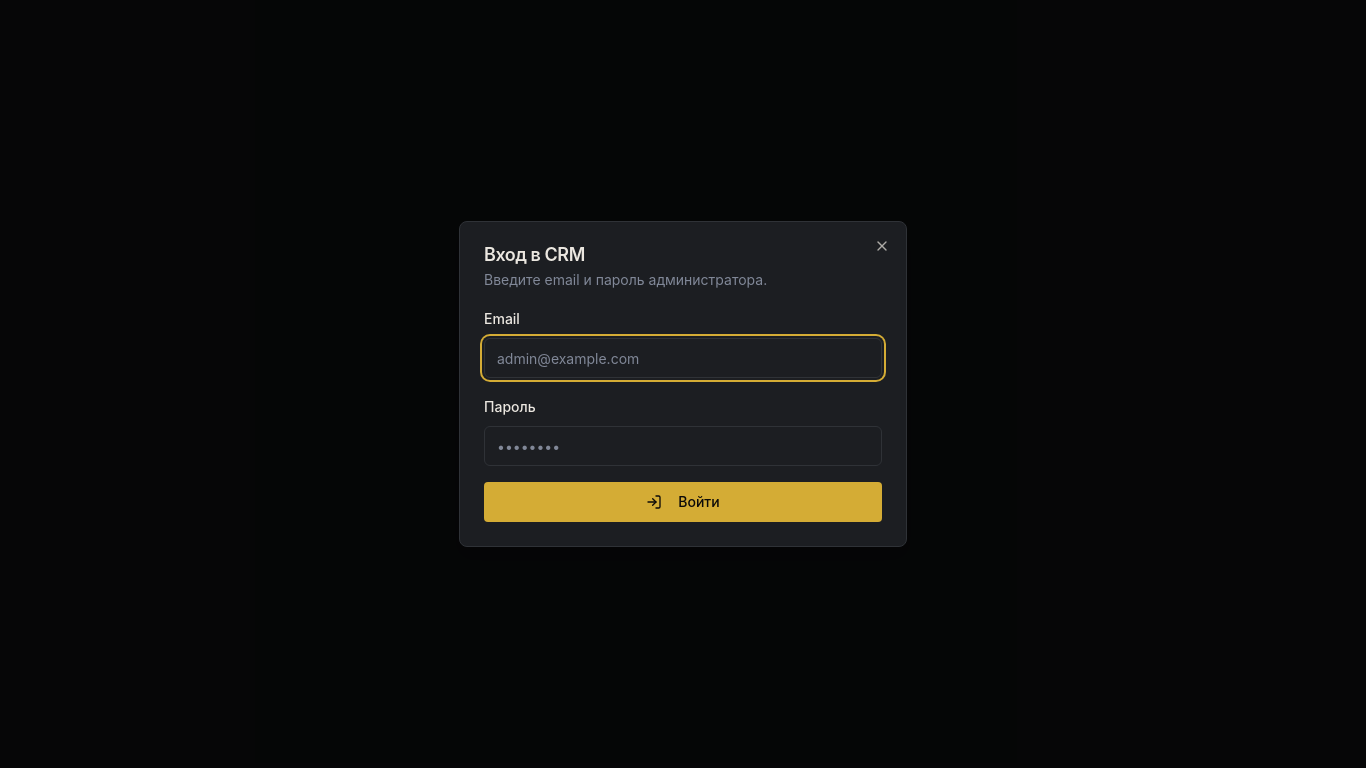
Scenario: CRM login feedback › shows a persistent error and reenables the form if the login callback rejects
Type "admin@example.test" into the field labelled "Email" at (683, 358), box [484,338,882,378]
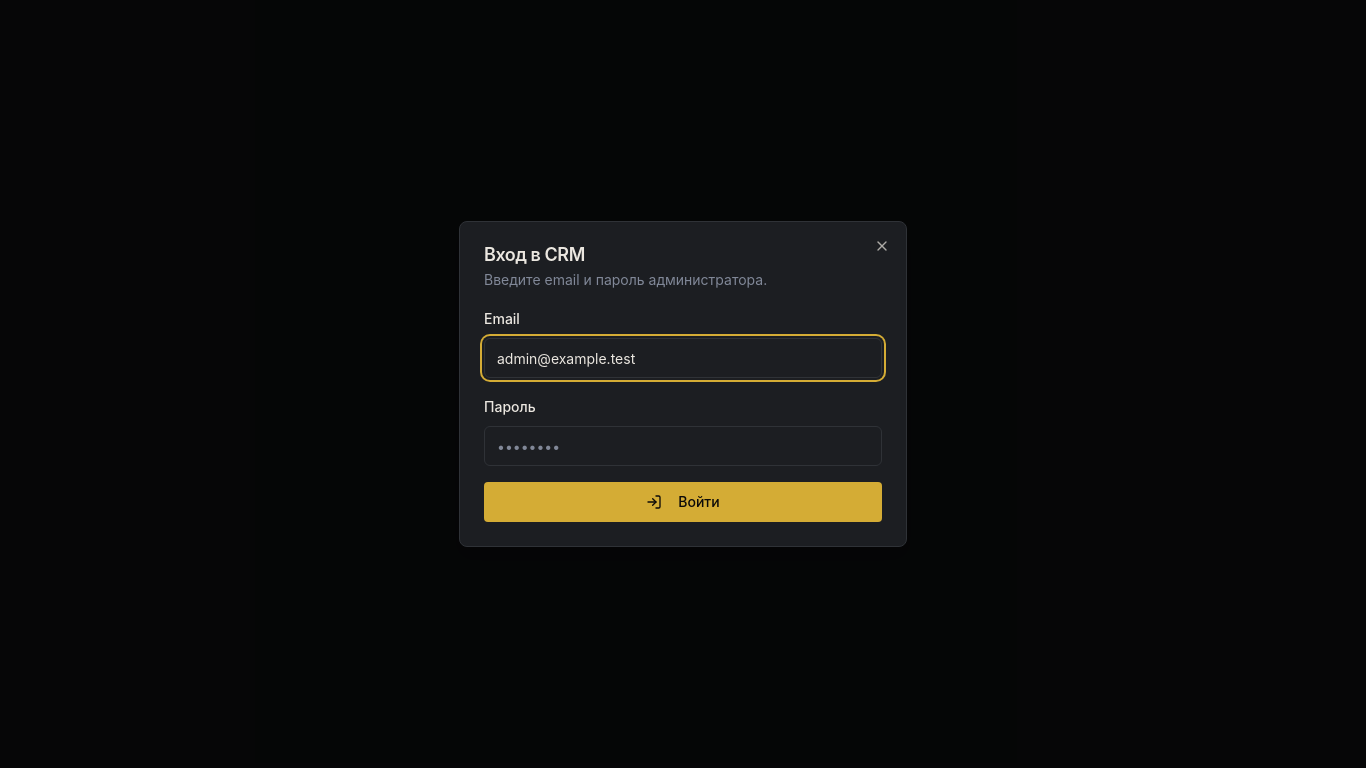
Type "test-password" into the password field labelled "Пароль" at (683, 446), box [484,426,882,466]
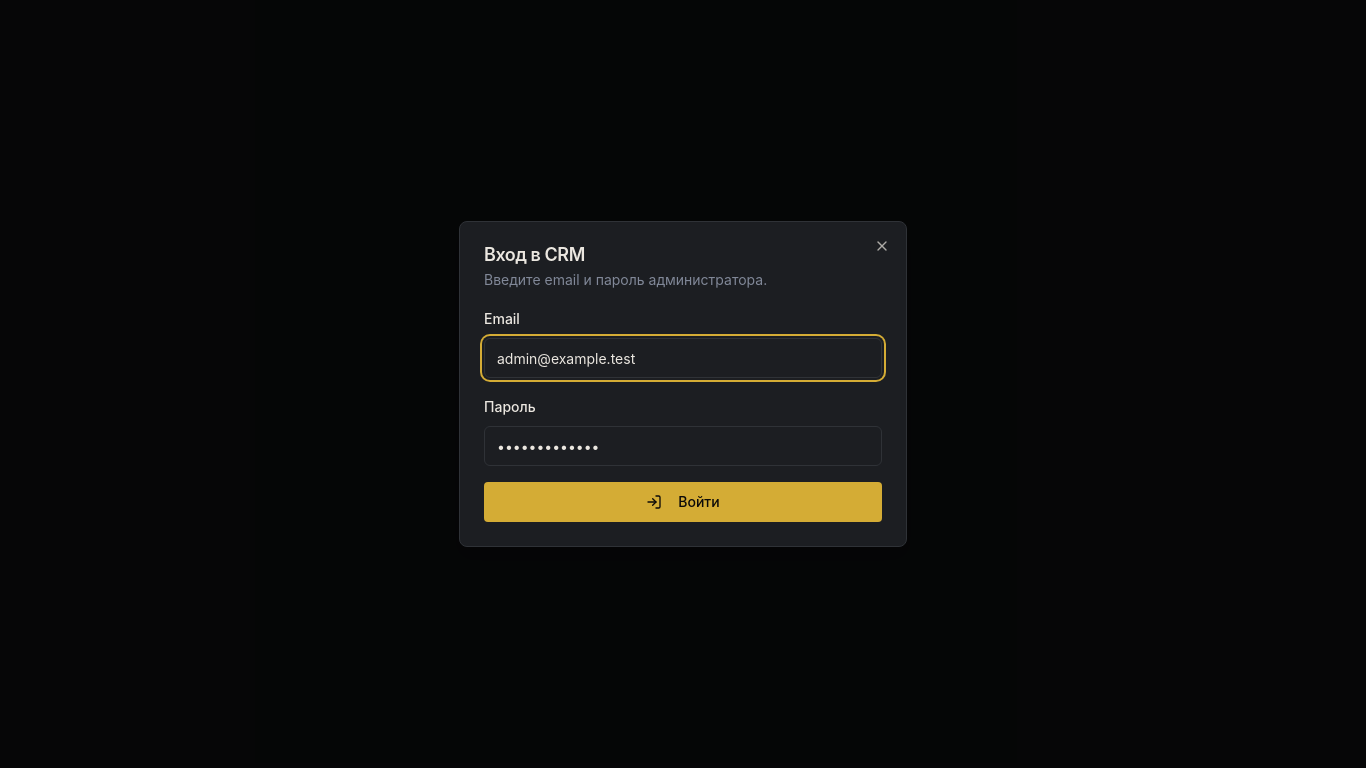
Click the button "Войти" at (683, 502), box [484,482,882,522]
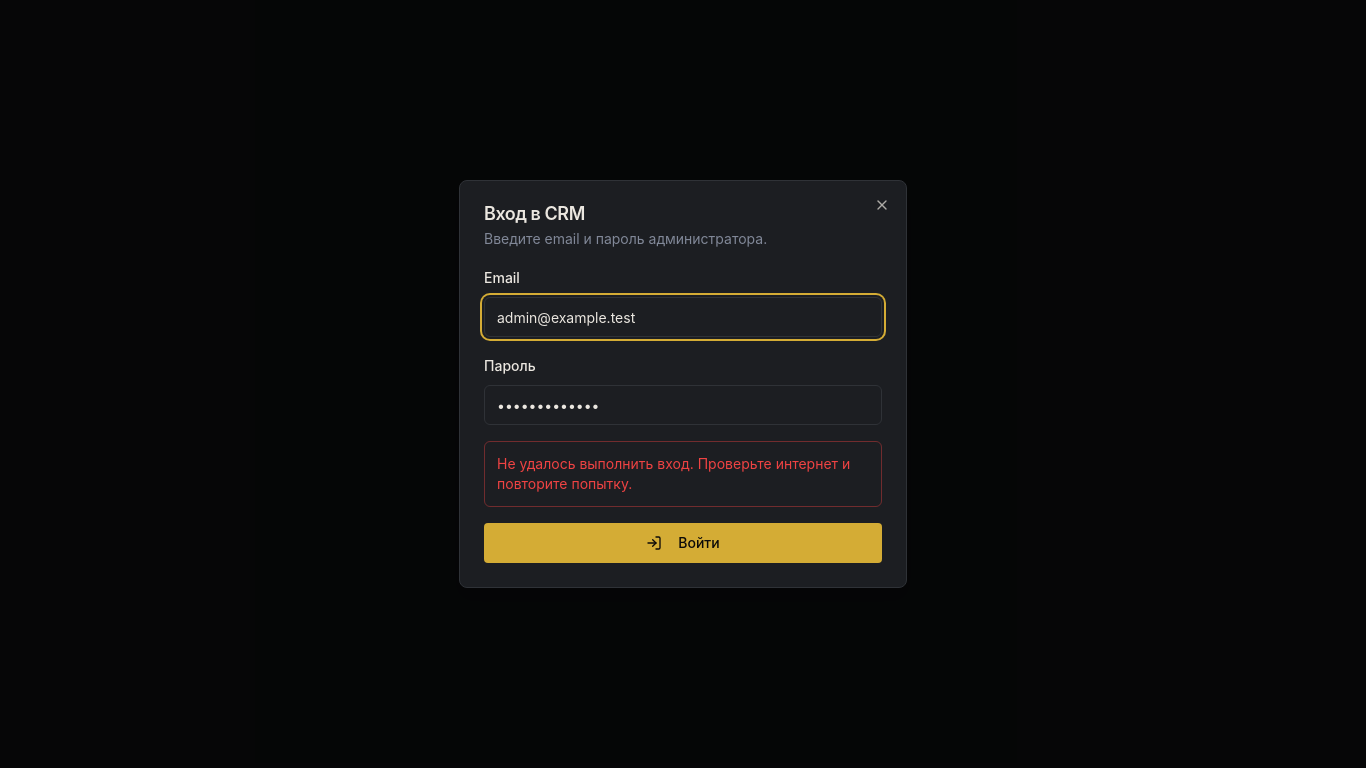
Check: the button "Войти" is enabled, box [484,523,882,563]
Check: the message shows "Не удалось выполнить вход", box [497,455,850,492]
